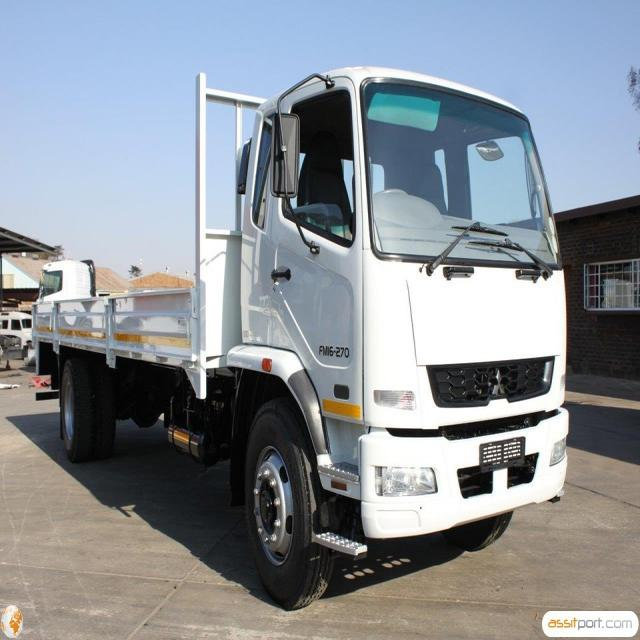truck: (31, 64, 572, 601)
